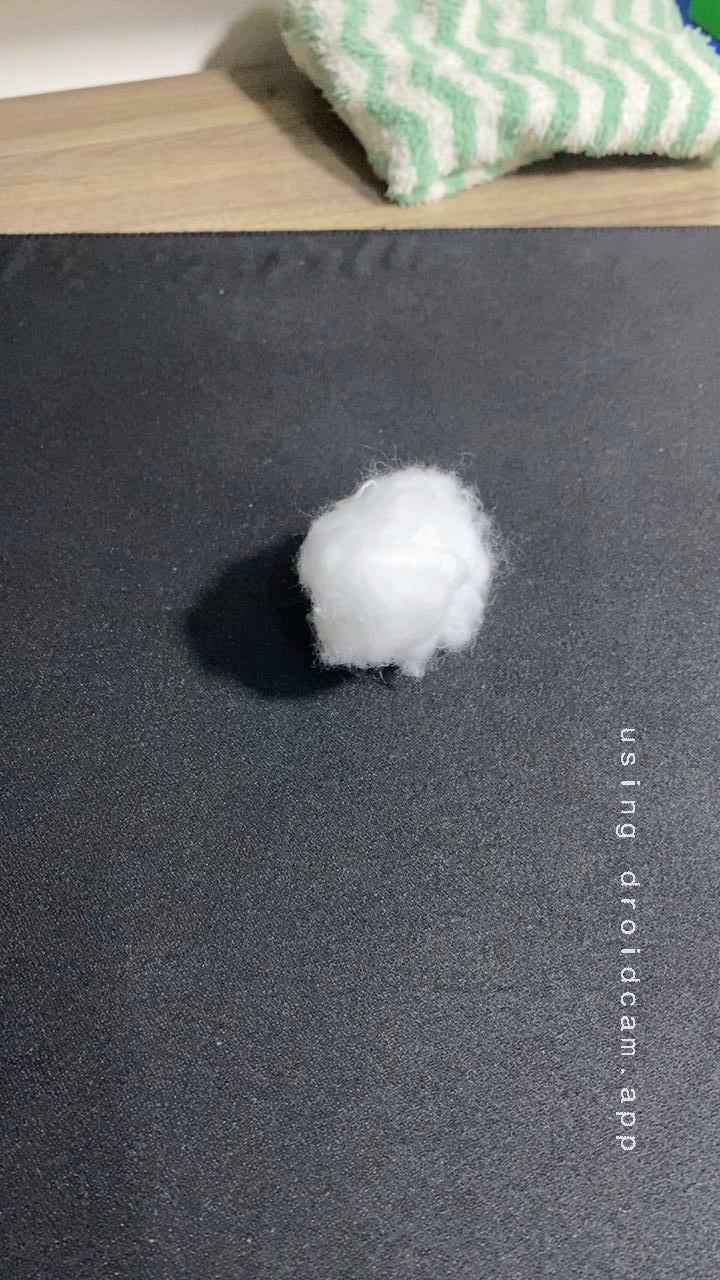cotton: (269, 444, 525, 686)
